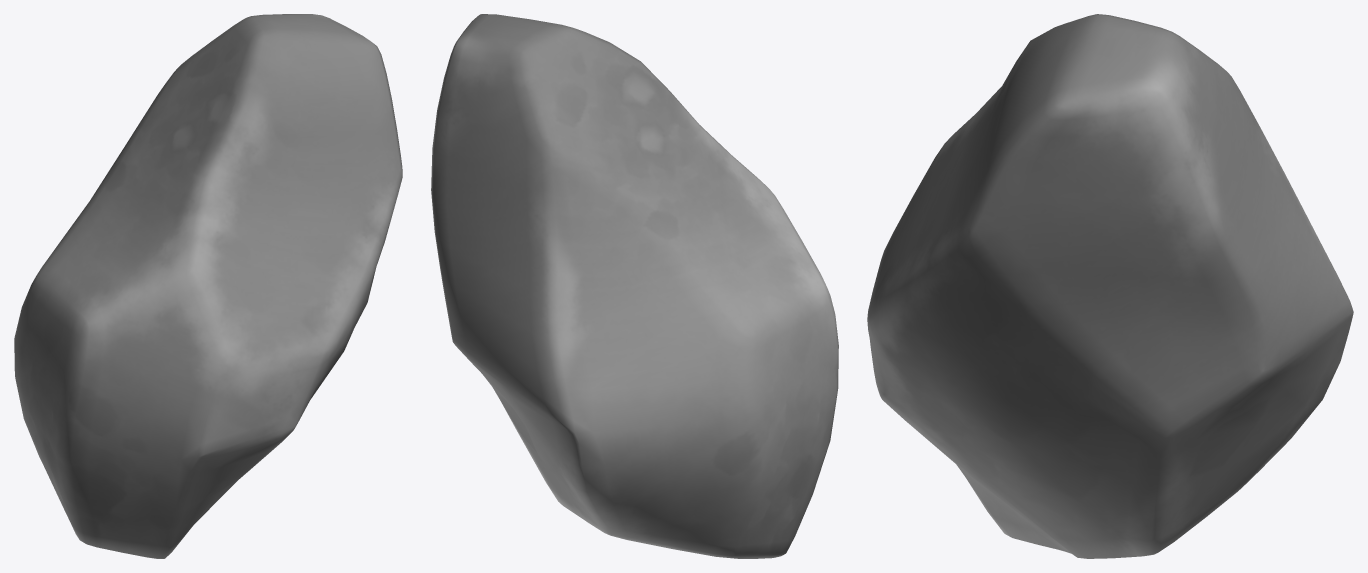
The model's file is Stone_2.FBX.
3 views of the same model, side by side, from view 1: azimuth 30°, elevation 25°; view 2: azimuth 150°, elevation 25°; view 3: azimuth 270°, elevation 25° (orthographic). The views are drawn at different scales.
Visible parts, largest first — view 1: Rock2; view 2: Rock2; view 3: Rock2.
Boxes of the visible parts, left/top/right/bottom form: Rock2: left=14, top=14, right=402, bottom=558; Rock2: left=431, top=14, right=838, bottom=558; Rock2: left=867, top=14, right=1353, bottom=558.
Bounding box in the file's own units: 0.6362 × 0.6384 × 0.8777.
1 material, 1 textured.
